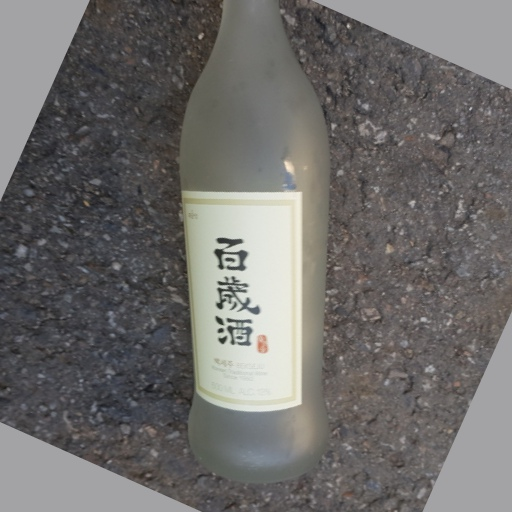Glass_0: (176, 1, 335, 486)
